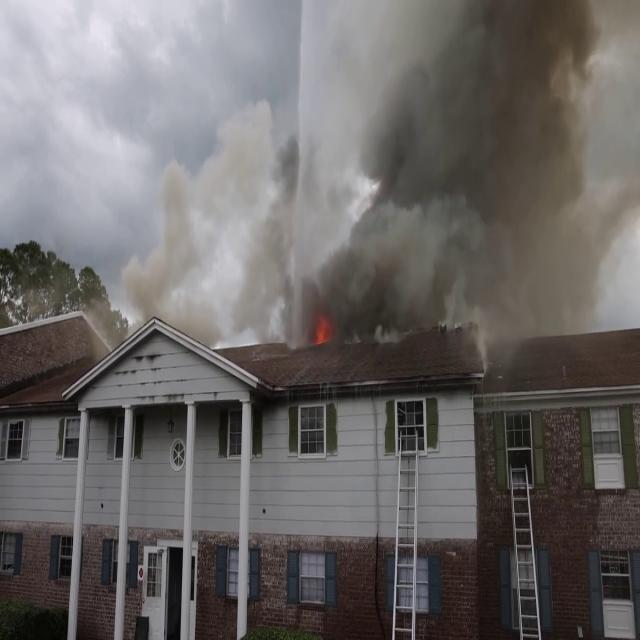Smoke: (126, 0, 618, 353)
